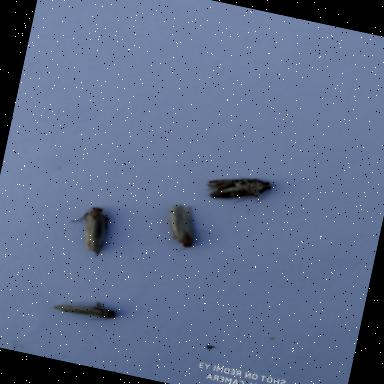pbw: (194, 162, 285, 219), (36, 286, 132, 334), (62, 192, 123, 260), (150, 194, 208, 256)
